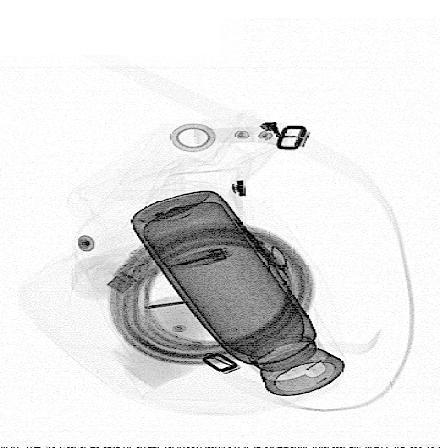Scissors: (237, 219, 289, 289)
